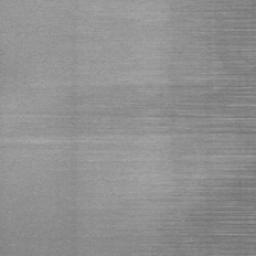Waist folding: (0, 55, 256, 254), (50, 0, 256, 39), (91, 59, 129, 66), (84, 234, 119, 238)
